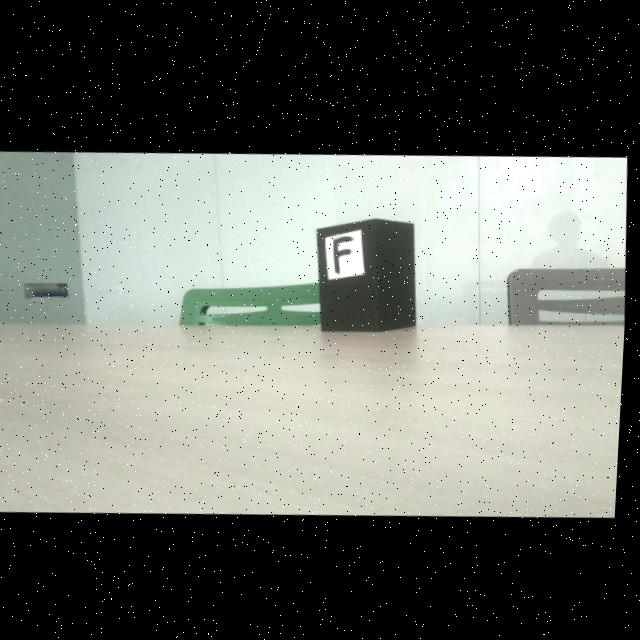F: (337, 233, 355, 269)
